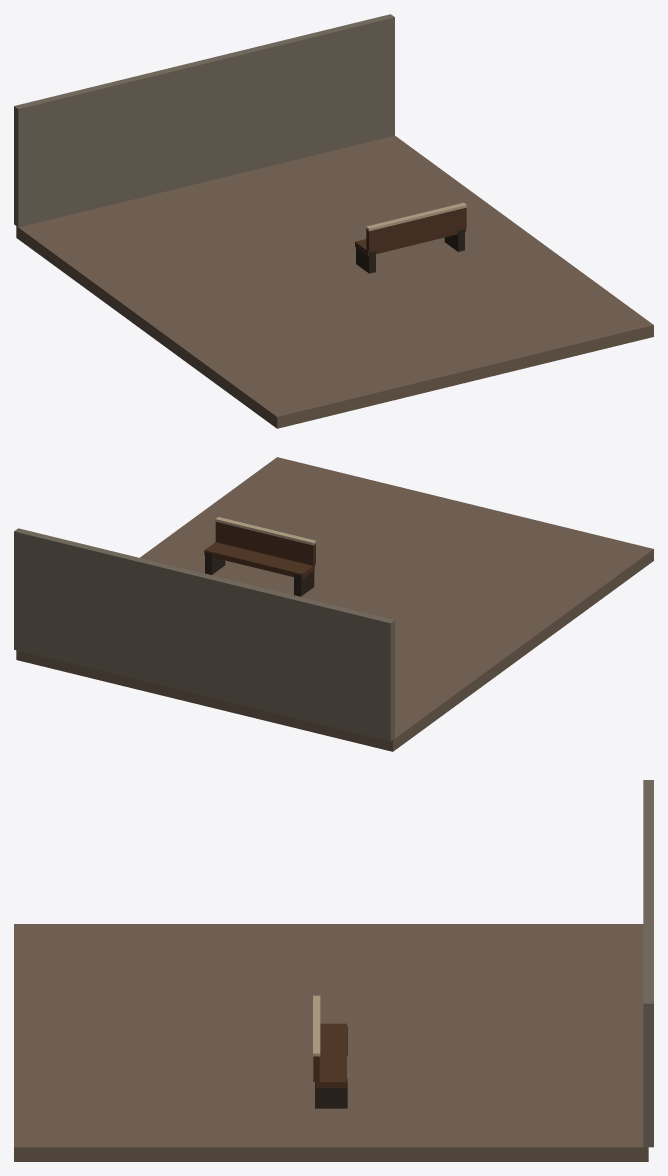
3 renders of one model, top to bottom at view 1: azimuth 30°, elevation 25°; view 2: azimuth 150°, elevation 25°; view 3: azimuth 270°, elevation 25°, orthographic. The views are drawn at different scales.
Bounding box in the file's own units: 10 × 3.3 × 12.1.
